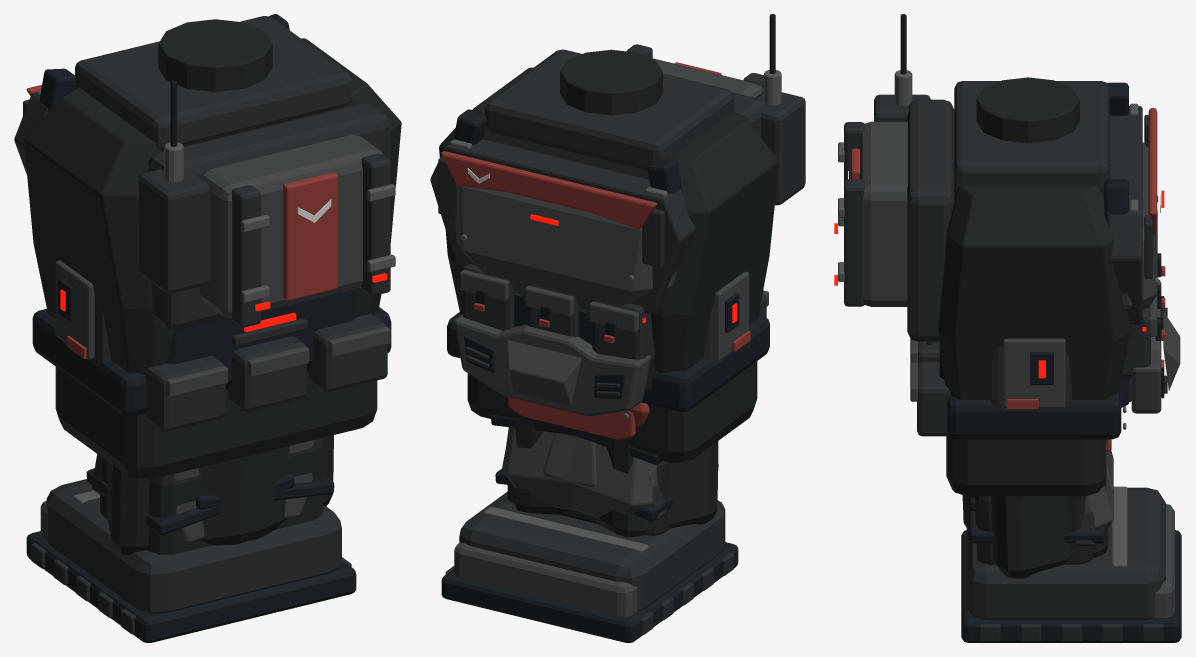
Rendered from soldier-blender-body.glb.
3 renders of one model, left to right at view 1: azimuth 30°, elevation 25°; view 2: azimuth 150°, elevation 25°; view 3: azimuth 270°, elevation 25°, orthographic. The views are drawn at different scales.
Visible parts, largest first — view 1: segment_chest, segment_pelvis, segment_foot_L, segment_foot_R, segment_head, segment_thigh_L, segment_thigh_R, segment_shin_L, segment_shin_R; view 2: segment_chest, segment_foot_L, segment_head, segment_pelvis, segment_foot_R, segment_thigh_L, segment_thigh_R, segment_kneecap_L, segment_shin_L, segment_kneecap_R; view 3: segment_chest, segment_foot_R, segment_pelvis, segment_head, segment_thigh_R, segment_foot_L, segment_shin_R.
Part boxes in pixels (<box>): segment_chest: <box>14,14,401,374</box>; segment_pelvis: <box>32,307,391,479</box>; segment_foot_L: <box>26,479,298,642</box>; segment_foot_R: <box>203,506,356,629</box>; segment_head: <box>55,260,355,390</box>; segment_thigh_L: <box>86,453,294,554</box>; segment_thigh_R: <box>196,435,334,540</box>; segment_shin_L: <box>91,454,211,554</box>; segment_shin_R: <box>275,438,324,529</box>; segment_chest: <box>430,14,805,372</box>; segment_foot_L: <box>495,500,738,642</box>; segment_head: <box>454,271,750,416</box>; segment_pelvis: <box>447,290,769,462</box>; segment_foot_R: <box>441,491,601,630</box>; segment_thigh_L: <box>543,432,718,537</box>; segment_thigh_R: <box>491,414,596,514</box>; segment_kneecap_L: <box>558,409,635,439</box>; segment_shin_L: <box>563,461,670,535</box>; segment_kneecap_R: <box>508,397,581,437</box>; segment_chest: <box>834,14,1165,399</box>; segment_foot_R: <box>961,518,1181,642</box>; segment_pelvis: <box>910,339,1121,496</box>; segment_head: <box>926,279,1180,413</box>; segment_thigh_R: <box>962,452,1113,578</box>; segment_foot_L: <box>961,486,1181,598</box>; segment_shin_R: <box>974,496,1095,565</box>.
Bounding box in the file's own units: 0.6688 × 1.25 × 0.738.
